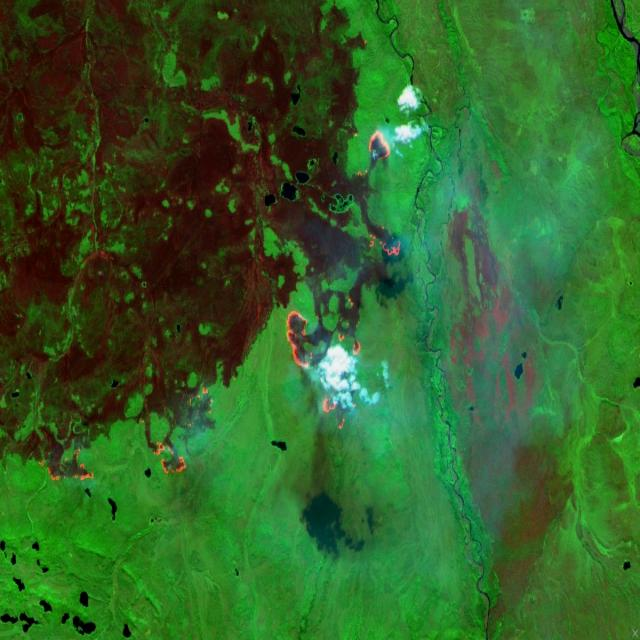fire: (275, 290, 370, 436), (146, 372, 223, 494), (32, 435, 100, 493), (358, 117, 400, 178), (366, 215, 409, 263)
